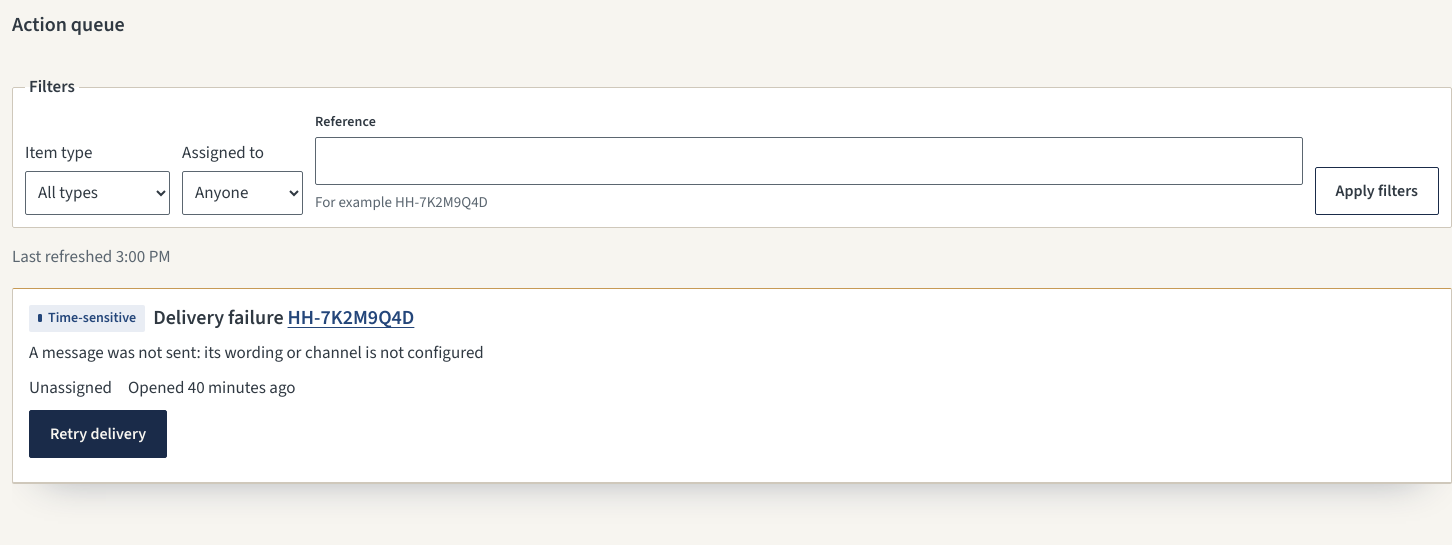
Test: Retry on a delivery issue (TSK-0032, HH-INT-20, HH-COM-02, T12) › [T12] a refused retry says the message is not waiting for one
The image size is (1452, 545).
Click the button "Retry delivery". click: (98, 434)
box: [29, 410, 167, 458]
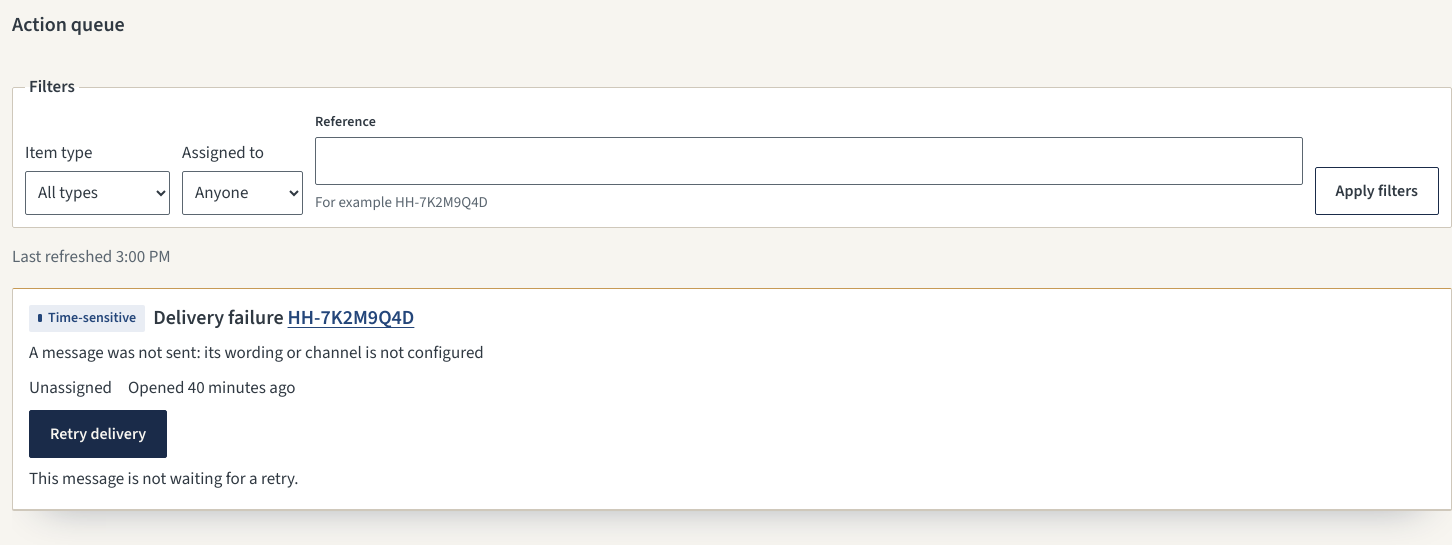
Expected: the text "This message is not waiting for a retry." is shown, [29, 467, 299, 491]
